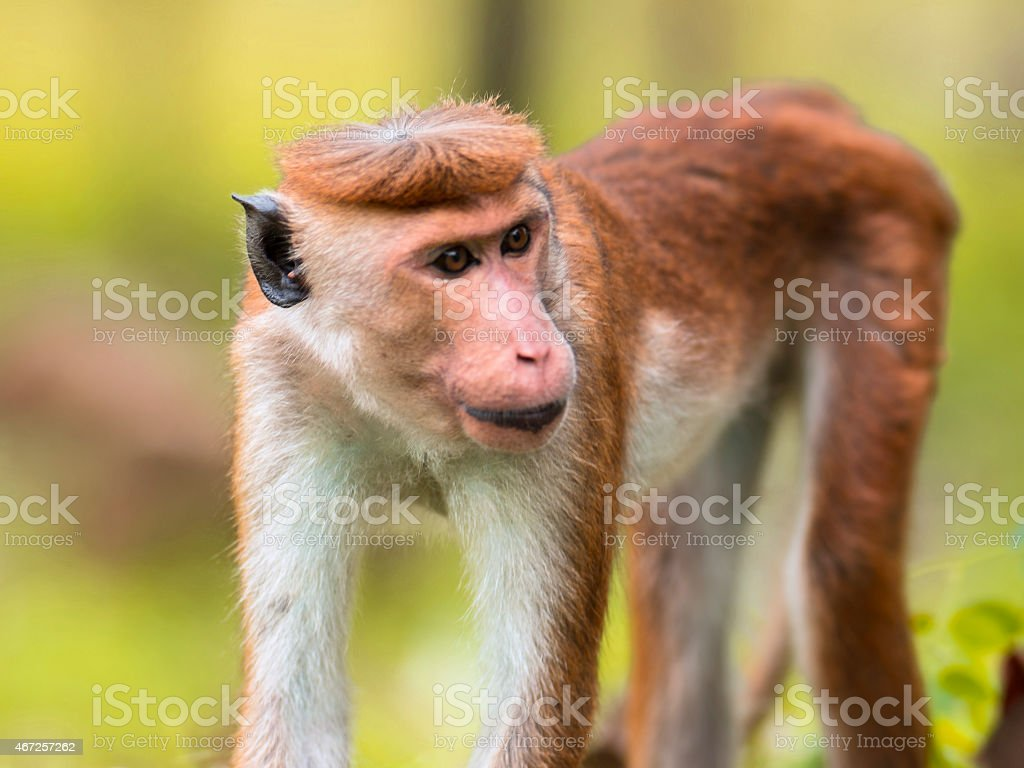Monkey: (185, 54, 970, 768)
